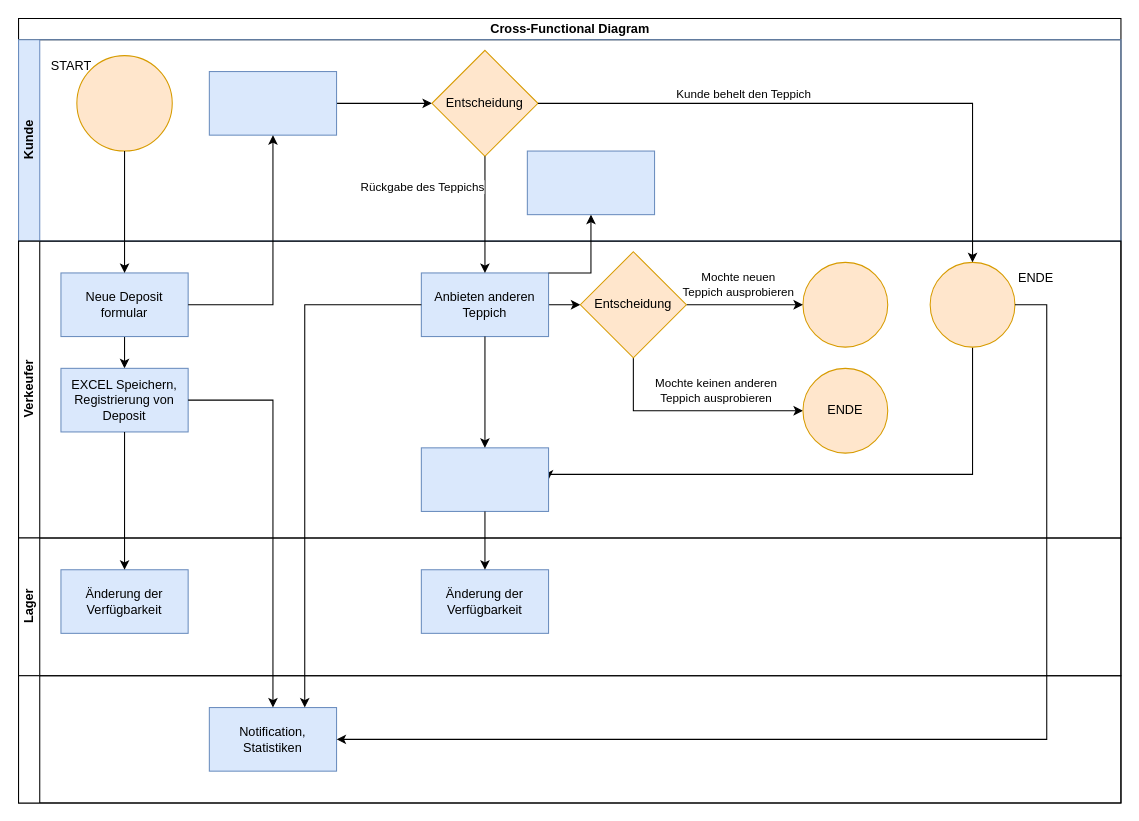
This 1139x821 diagram has some shape labels left out. The box of each missing label's shape, as (x1, y1, x2, y2) in pixels:
Bestetigung von ruckgabe: (526, 150, 655, 215)
Kunde mochte Teppich ausleihen: (76, 55, 172, 151)
Schliesung von deposit in deposit Register: (420, 447, 549, 511)
Tepich, Copy von Deposit: (208, 70, 337, 135)
Verkauf: (929, 261, 1015, 347)
Verkaufsleiter: (17, 675, 1121, 803)
Vorgang wiederholen: (802, 261, 888, 347)
